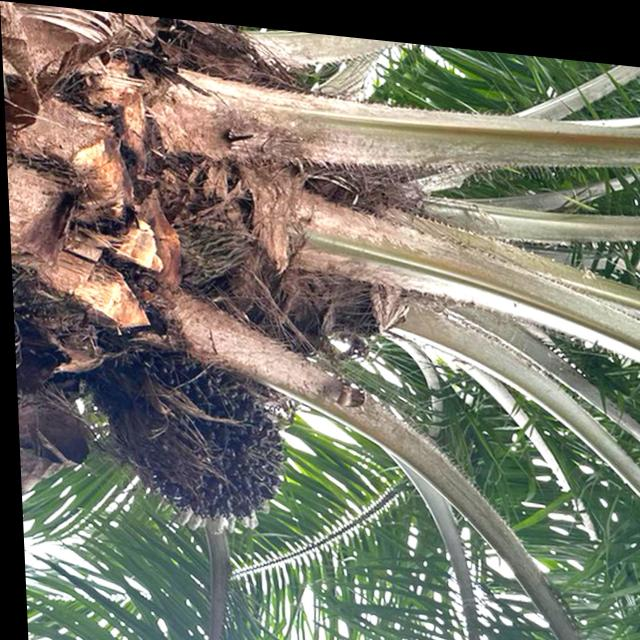unripe: (95, 332, 288, 525)
